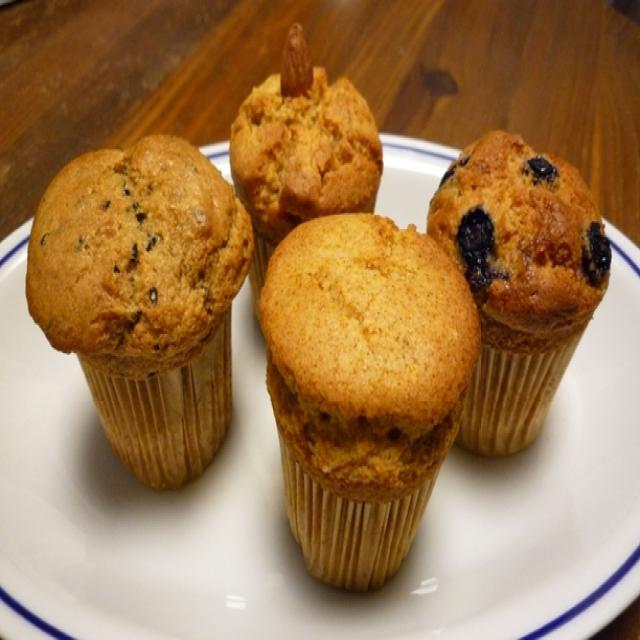炸货点心: (18, 39, 617, 595)
面包点心: (18, 39, 617, 595)
